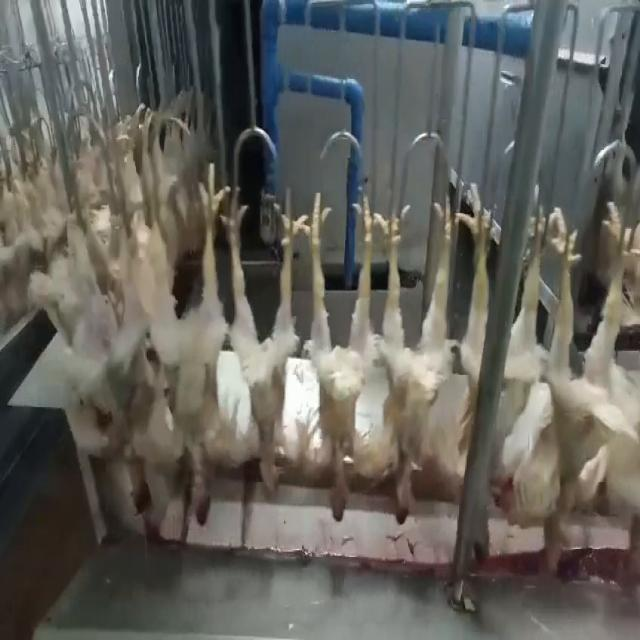chicken: (546, 186, 639, 559), (362, 186, 462, 525), (489, 185, 583, 529), (146, 149, 228, 532), (292, 192, 372, 526), (228, 190, 308, 498), (107, 198, 152, 502)
